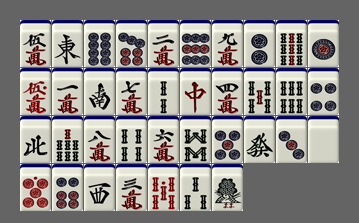0m: (20, 68, 51, 115)
0p: (20, 164, 51, 211)
0s: (148, 164, 179, 211)
1m: (52, 68, 83, 115)
1p: (308, 20, 339, 67)
1s: (212, 164, 243, 211)
1z: (52, 20, 83, 67)
2m: (148, 20, 179, 67)
2p: (244, 20, 275, 67)
2s: (148, 68, 179, 115)
2z: (84, 68, 115, 115)
3m: (116, 164, 147, 211)
3p: (276, 116, 307, 163)
3s: (180, 164, 211, 211)
3z: (84, 164, 115, 211)
4m: (212, 68, 243, 115)
4p: (308, 68, 339, 115)
4s: (116, 116, 147, 163)
4z: (20, 116, 51, 163)
5m: (20, 20, 51, 67)
5p: (212, 116, 243, 163)
5s: (244, 68, 275, 115)
5z: (308, 116, 339, 163)
6m: (148, 116, 179, 163)
6p: (52, 164, 83, 211)
6s: (276, 68, 307, 115)
6z: (244, 116, 275, 163)
7m: (116, 68, 147, 115)
7p: (116, 20, 147, 67)
7s: (52, 116, 83, 163)
7z: (180, 68, 211, 115)
8m: (84, 116, 115, 163)
8p: (84, 20, 115, 67)
8s: (180, 116, 211, 163)
9m: (212, 20, 243, 67)
9p: (180, 20, 211, 67)
9s: (276, 20, 307, 67)
